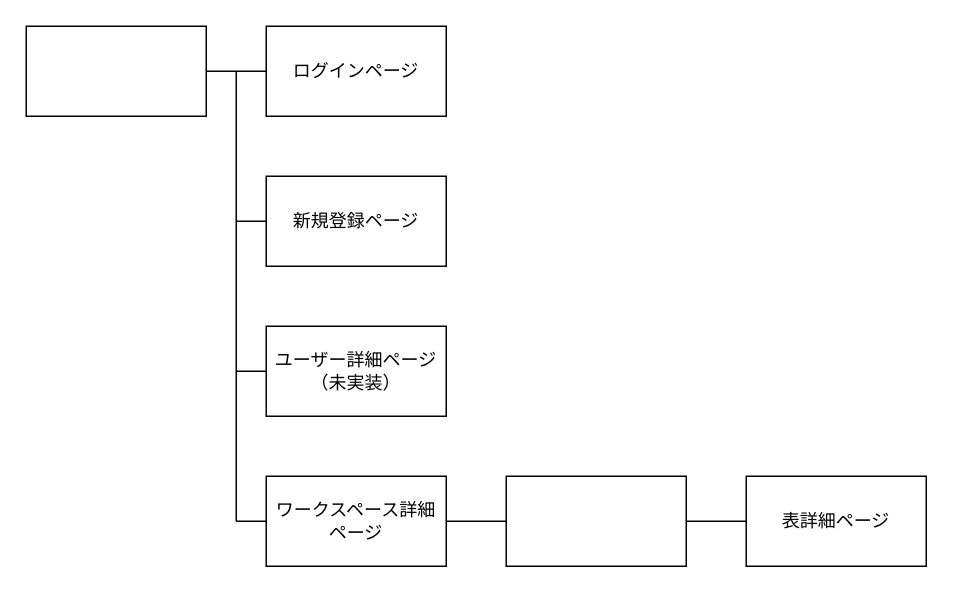
Image size: 953x593. Some labels were removed from this diagram. Here are the shapes that lost their labels. From the top down, the centre of each, then its label:
point 115,70: トップページ
point 595,520: ワークスペース編集ページ
